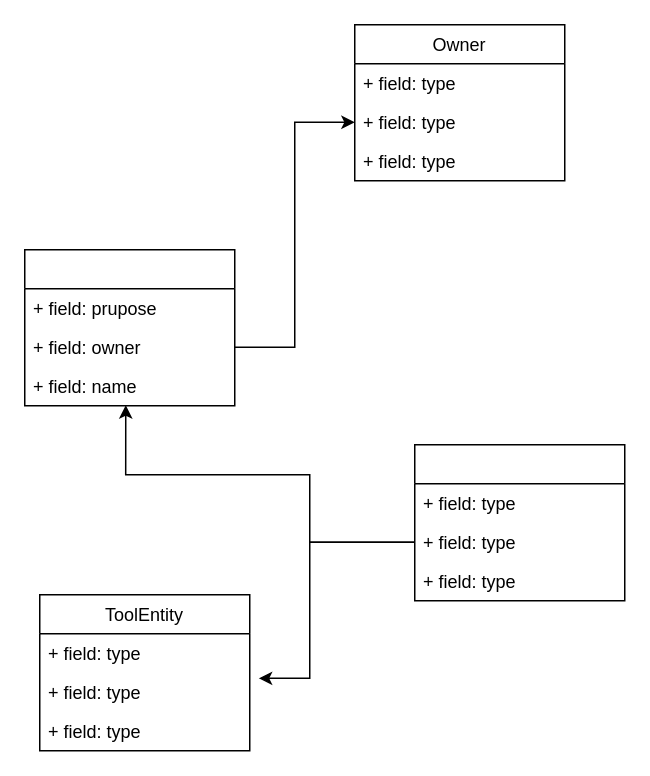
The diagram is 650 pixels wide and 776 high, and some of its shapes have lost their labels. Here are the shapes that lost their labels. From the top down, the box of each, then its label:
(23, 248, 235, 406): SystemEntity
(413, 443, 625, 601): SystemTool
